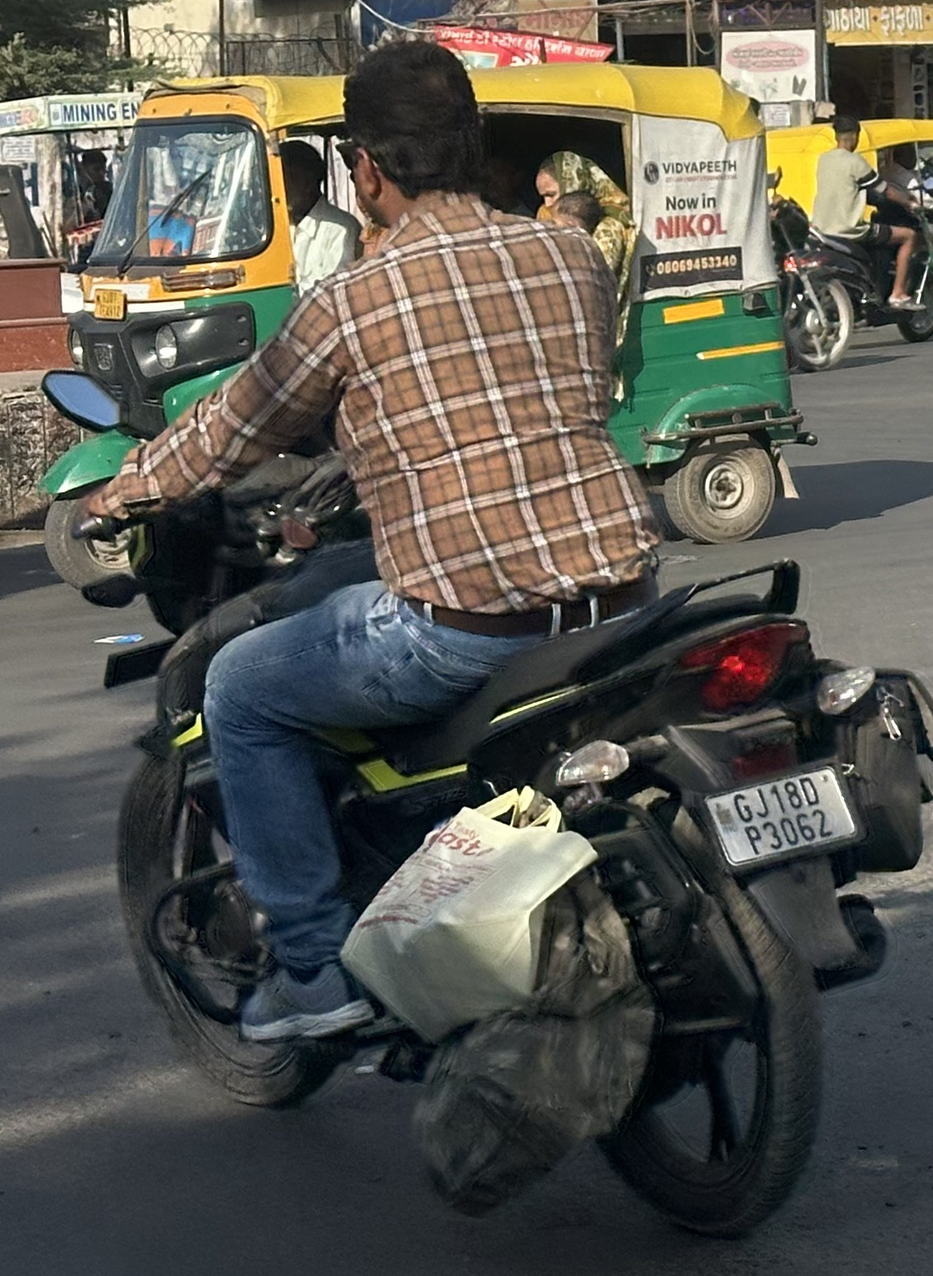BikeWithRider: (27, 30, 930, 1253)
NoHelmet: (324, 31, 501, 232)
